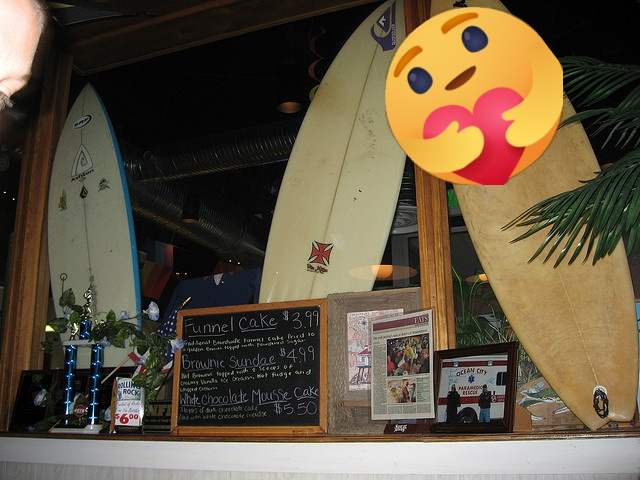care: (385, 7, 563, 185)
